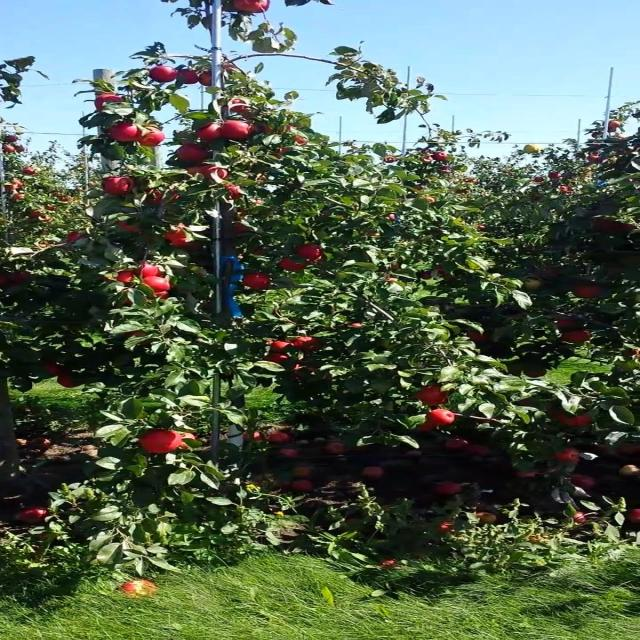apple: (141, 432, 180, 456), (177, 144, 212, 164), (554, 412, 592, 428), (170, 228, 197, 250), (106, 176, 135, 196), (113, 124, 142, 143), (419, 388, 448, 407), (220, 124, 254, 140), (148, 188, 180, 205), (148, 68, 178, 84), (141, 276, 171, 292), (141, 128, 165, 148), (575, 284, 604, 300), (291, 364, 320, 380), (554, 448, 583, 463), (198, 124, 222, 142), (298, 244, 325, 260), (419, 268, 453, 280), (198, 168, 228, 181), (134, 264, 164, 277), (298, 336, 322, 352), (426, 412, 455, 425), (177, 432, 199, 448), (561, 332, 590, 344), (99, 96, 124, 109), (248, 276, 270, 290), (141, 264, 164, 277), (269, 340, 293, 352), (120, 220, 142, 233), (284, 260, 306, 272), (177, 72, 199, 84), (525, 368, 548, 379), (596, 220, 619, 231), (148, 192, 167, 205), (227, 184, 242, 200), (198, 72, 213, 88), (13, 272, 32, 284), (163, 192, 181, 204), (468, 332, 489, 342), (63, 376, 80, 388), (525, 280, 542, 292), (540, 268, 562, 277), (120, 272, 135, 285), (269, 356, 292, 364), (49, 364, 64, 376), (561, 320, 580, 329), (276, 148, 290, 160), (276, 148, 290, 160), (70, 232, 85, 243), (255, 4, 270, 15), (241, 108, 256, 119), (234, 4, 254, 12), (625, 348, 639, 359), (234, 224, 251, 233), (561, 320, 580, 328), (618, 224, 636, 232), (234, 100, 247, 111), (191, 168, 206, 177), (220, 64, 236, 72), (156, 292, 171, 300), (127, 332, 146, 338), (262, 124, 274, 133), (120, 300, 135, 307), (298, 136, 308, 144), (255, 248, 265, 256), (348, 324, 363, 328)
